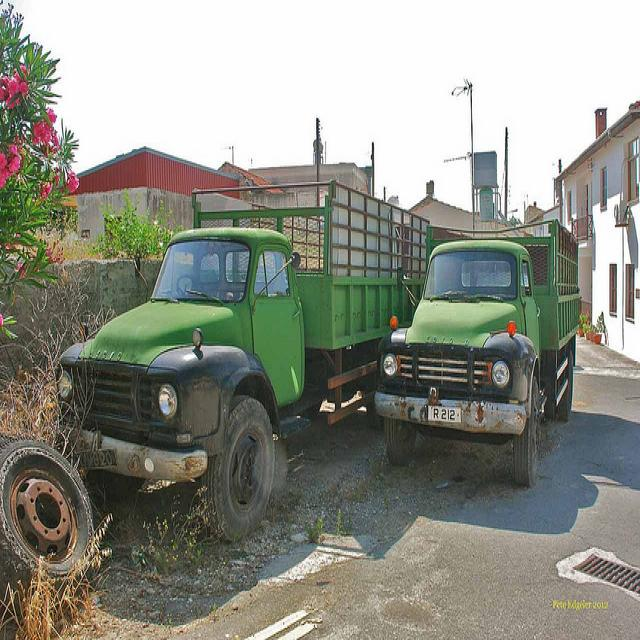Vehicle: (59, 184, 422, 537), (375, 218, 582, 486)
